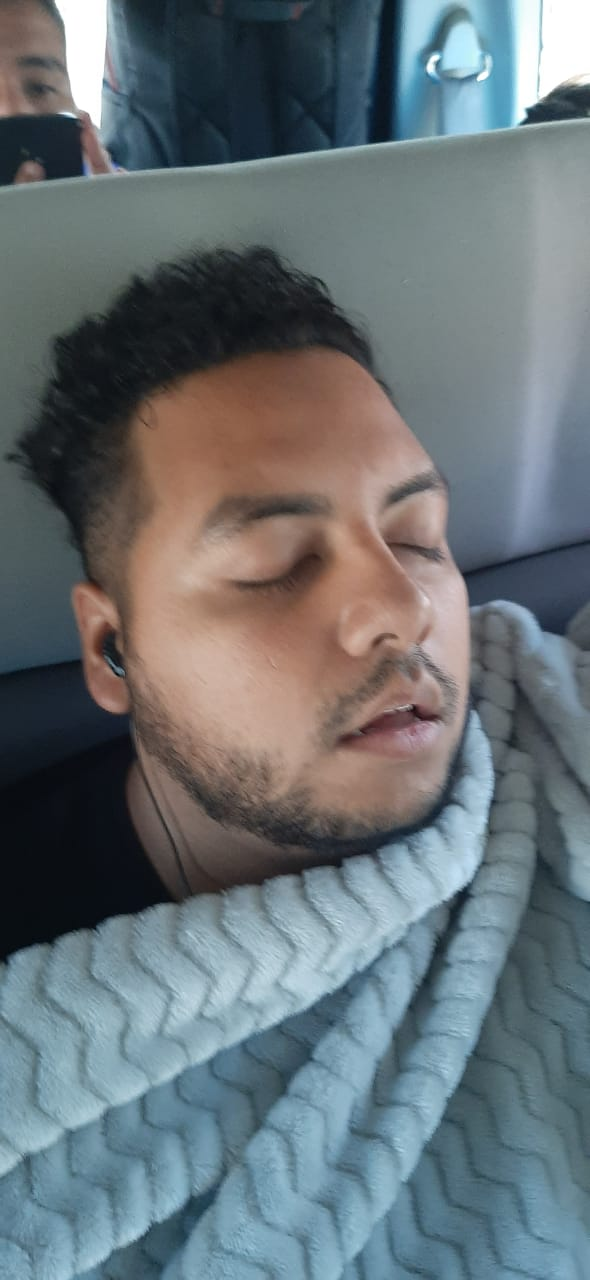Yoshi: (17, 258, 493, 850)
